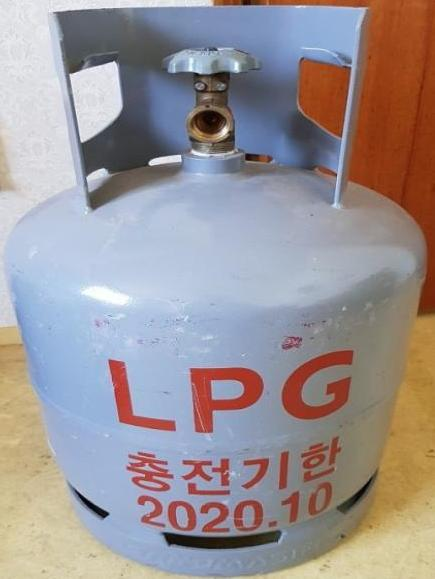cylinder: (1, 1, 435, 579)
